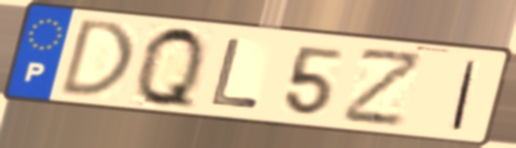5: (283, 45, 349, 118)
D: (55, 16, 137, 99)
I: (448, 57, 481, 133)
L: (206, 35, 263, 111)
Q: (133, 22, 208, 114)
Z: (340, 48, 428, 129)
